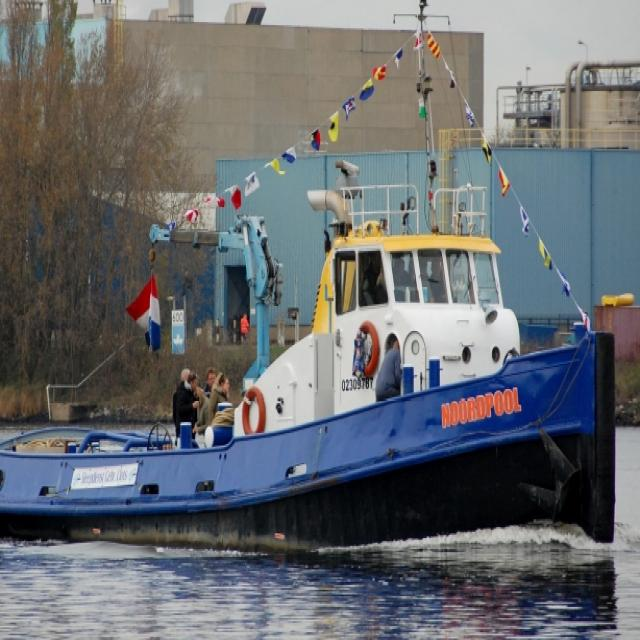tugboat: (1, 1, 624, 570)
